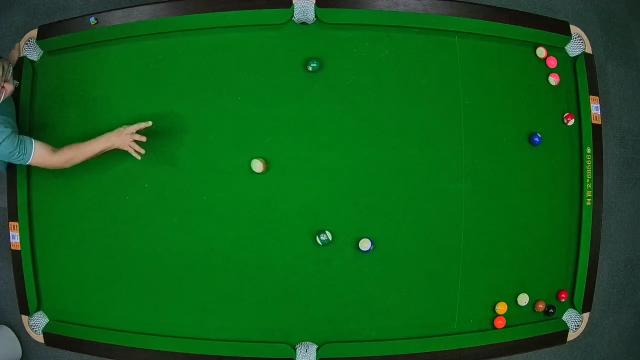bag1: (19, 38, 45, 62)
bag2: (291, 0, 317, 26)
bag3: (566, 29, 588, 57)
bag4: (22, 309, 50, 341)
bag5: (294, 340, 320, 360)
bag6: (563, 308, 585, 332)
ball0: (516, 292, 530, 308)
ball1: (494, 301, 510, 317)
ball10: (359, 238, 373, 253)
ball11: (562, 113, 576, 127)
ball12: (546, 72, 562, 86)
ball13: (536, 47, 548, 59)
ball14: (316, 230, 332, 248)
ball15: (250, 158, 268, 175)
ball2: (528, 132, 542, 146)
ball3: (556, 289, 568, 302)
ball4: (546, 56, 558, 68)
ball5: (492, 316, 508, 330)
ball6: (306, 58, 322, 74)
ball7: (532, 298, 546, 314)
ball8: (542, 304, 556, 320)
